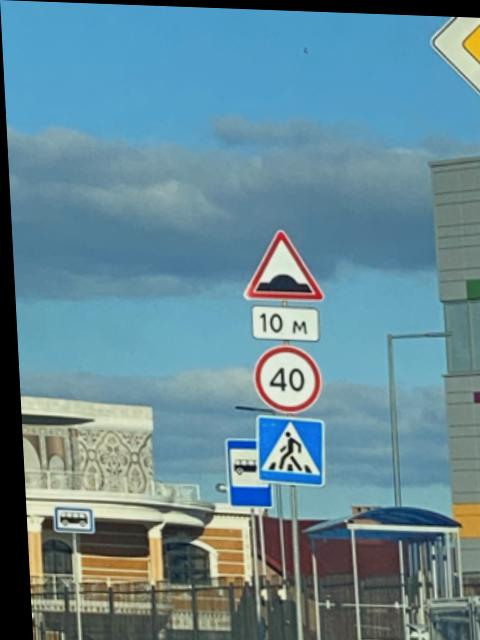limit40: (246, 340, 322, 414)
